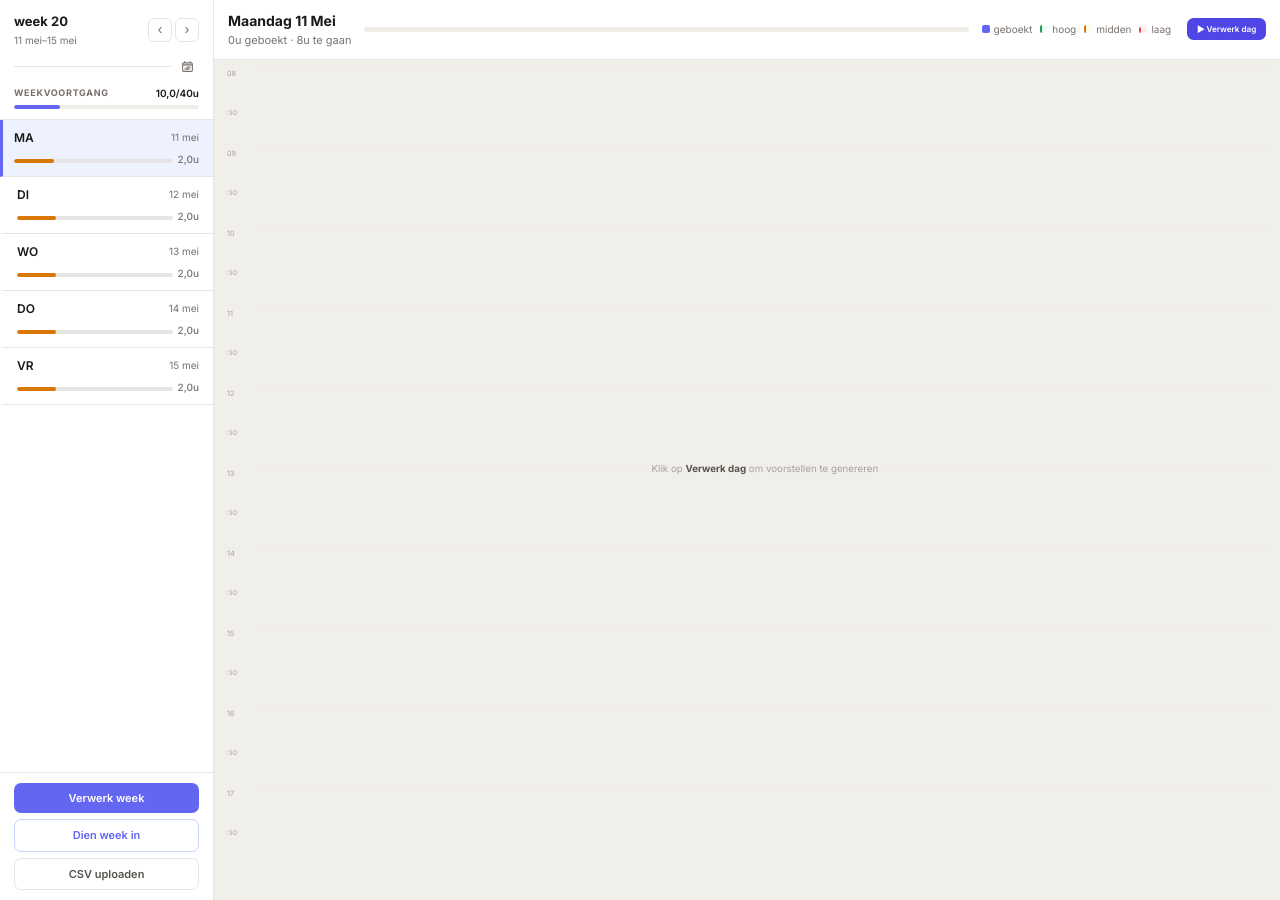
it: process week › shows error when githubUsername missing
Click the button with test id "process-week" at (106, 798), box [14, 782, 199, 813]
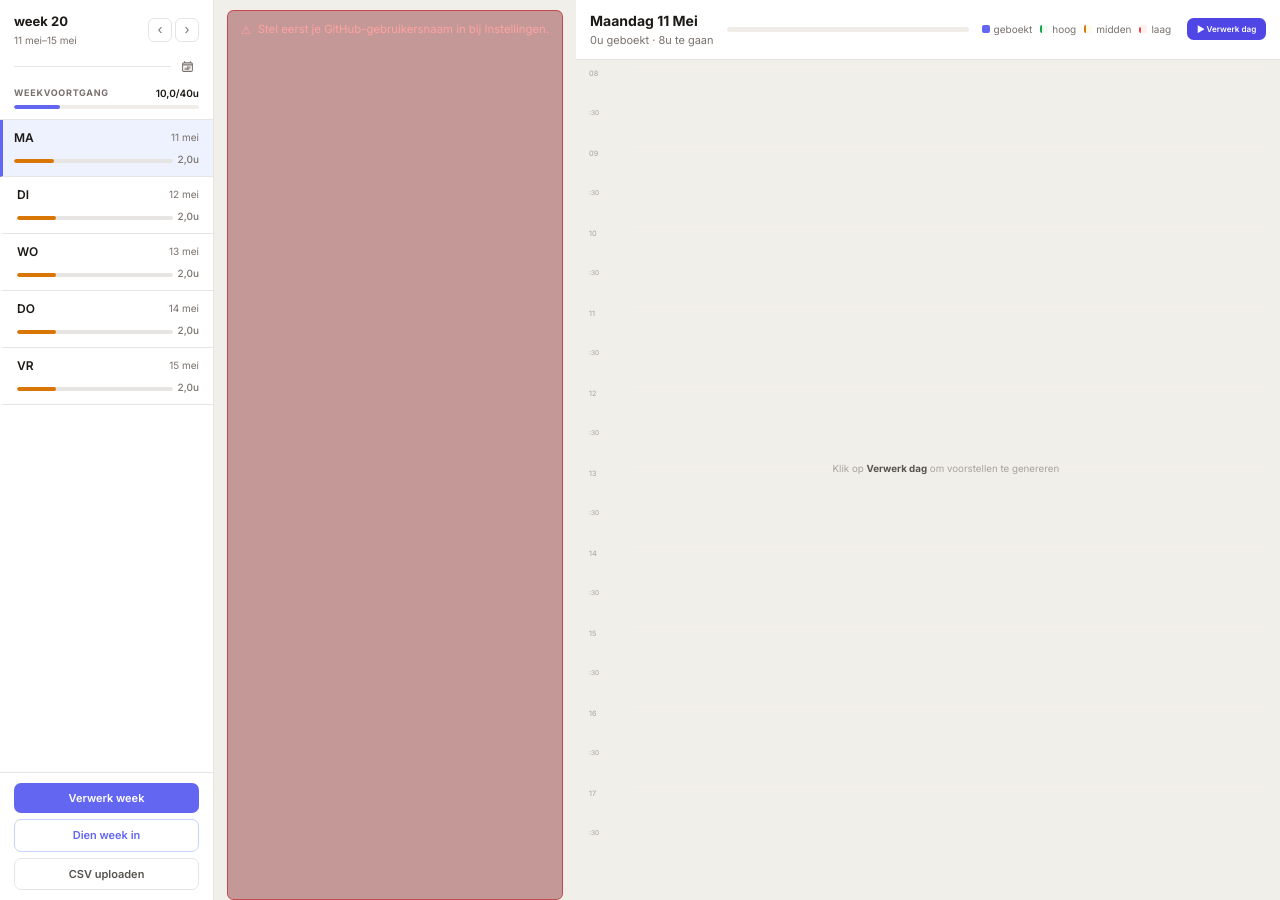
Expected: the text "Stel eerst je GitHub-gebruikersnaam in bij Instellingen." is shown, [258, 20, 549, 37]
